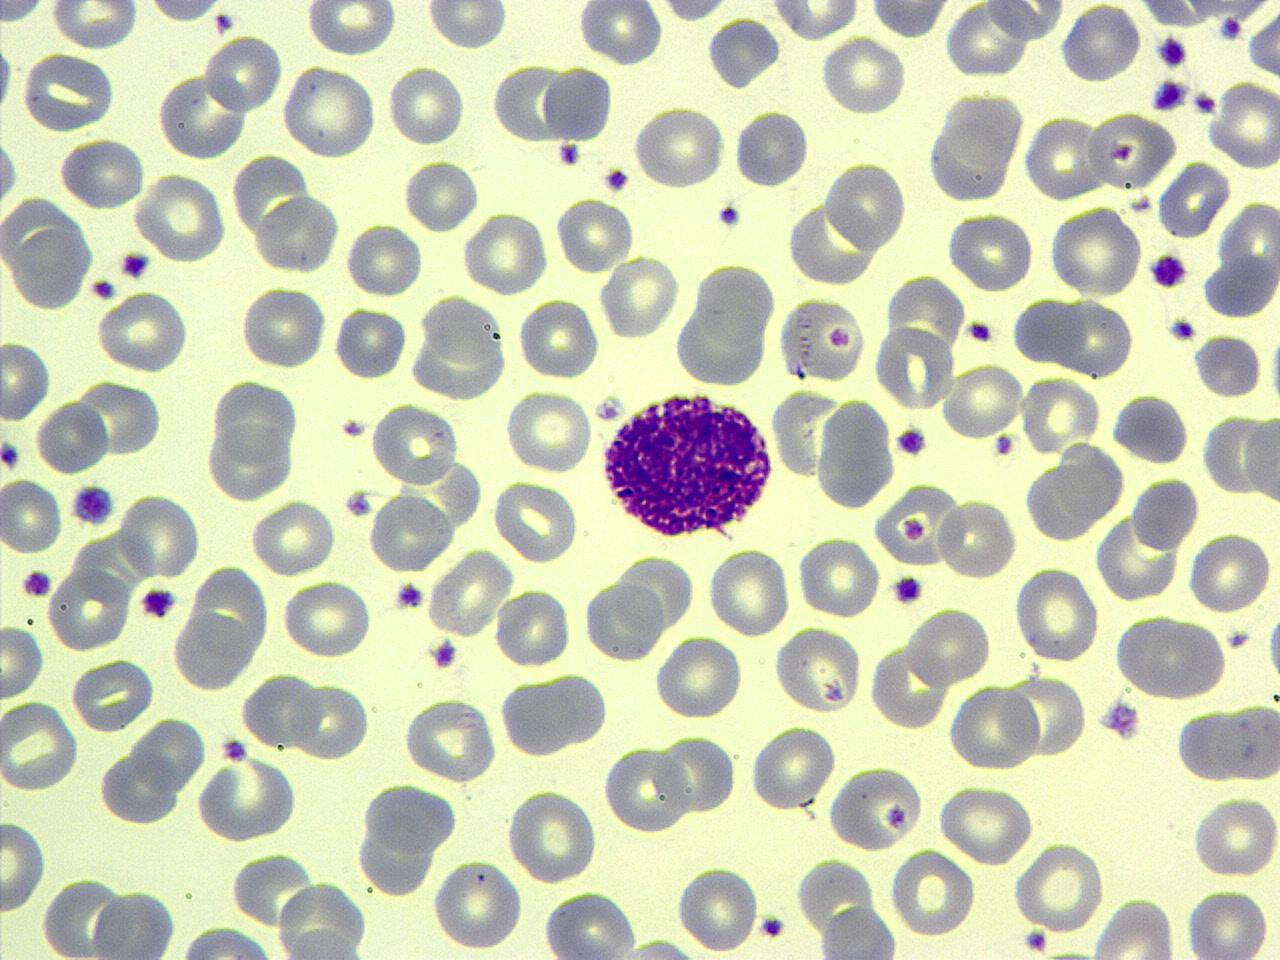Platelets: (69, 480, 117, 530), (1146, 249, 1190, 291), (1150, 76, 1190, 115), (137, 584, 178, 622), (0, 39, 17, 116), (1154, 33, 1190, 69), (889, 572, 925, 606), (893, 425, 929, 459), (1265, 608, 1280, 690), (20, 566, 54, 600), (394, 578, 427, 612), (430, 636, 460, 672), (119, 249, 151, 280), (602, 165, 632, 195), (219, 736, 250, 764), (87, 275, 119, 303), (758, 912, 786, 942), (211, 7, 239, 36), (1190, 89, 1218, 118), (1169, 317, 1199, 342), (965, 319, 993, 345), (338, 416, 369, 439), (0, 440, 22, 471), (992, 432, 1018, 457), (1217, 16, 1243, 41), (557, 140, 581, 167), (1127, 193, 1155, 215), (1223, 628, 1251, 650)
RBC: (924, 89, 1027, 204), (1113, 612, 1229, 702), (495, 672, 608, 760), (280, 62, 378, 161), (504, 786, 600, 884), (195, 755, 300, 843), (1047, 202, 1143, 298), (814, 398, 896, 511), (432, 854, 525, 952), (825, 762, 926, 851), (1013, 562, 1101, 664), (1014, 839, 1108, 934), (946, 681, 1040, 773), (402, 693, 498, 784), (1173, 702, 1279, 784), (134, 170, 228, 262), (936, 783, 1038, 866), (156, 69, 248, 161), (772, 624, 864, 716), (776, 294, 868, 386), (602, 742, 692, 834), (786, 198, 876, 289), (654, 632, 746, 722), (822, 159, 910, 253), (706, 545, 792, 639), (633, 103, 728, 190), (94, 289, 190, 374), (426, 547, 515, 638), (502, 386, 595, 474), (890, 846, 977, 940), (748, 724, 838, 814), (1191, 791, 1279, 882), (116, 490, 204, 582), (674, 862, 761, 954), (370, 400, 462, 487), (240, 282, 328, 372), (691, 259, 777, 351), (20, 51, 117, 132), (211, 378, 299, 466), (1186, 528, 1274, 616), (872, 482, 964, 566), (491, 476, 578, 564), (463, 210, 549, 297), (904, 604, 993, 690), (946, 209, 1036, 293), (868, 640, 950, 732), (359, 781, 462, 854), (275, 879, 371, 958), (599, 251, 681, 342), (282, 576, 373, 658), (1, 697, 79, 793), (1085, 109, 1175, 192), (205, 419, 295, 501), (818, 34, 910, 115), (45, 568, 130, 654), (516, 295, 601, 382), (1005, 671, 1089, 758), (253, 192, 341, 275), (77, 376, 163, 460), (873, 322, 955, 409), (366, 491, 454, 574), (248, 497, 338, 578), (796, 534, 880, 620), (12, 224, 94, 312), (1023, 112, 1105, 200), (584, 578, 666, 664), (1020, 372, 1103, 458), (1053, 295, 1137, 379), (940, 359, 1025, 442), (540, 888, 638, 960), (172, 608, 254, 693), (490, 59, 570, 145), (201, 32, 283, 115), (240, 668, 321, 752), (385, 63, 466, 147), (493, 584, 572, 670), (938, 496, 1018, 582), (943, 1, 1030, 80), (58, 134, 147, 211), (1182, 884, 1272, 960), (1058, 3, 1142, 84), (290, 678, 370, 762), (732, 105, 810, 191), (69, 656, 157, 732), (659, 730, 737, 816), (555, 194, 635, 274), (344, 219, 424, 298), (401, 155, 482, 235), (88, 888, 177, 960), (1108, 390, 1192, 466), (1209, 80, 1279, 171), (332, 302, 408, 383), (1218, 197, 1280, 294), (1157, 158, 1231, 241), (706, 13, 782, 91), (35, 396, 110, 476), (577, 0, 664, 68), (542, 64, 613, 146), (1089, 896, 1177, 960), (1130, 472, 1198, 554), (1200, 250, 1278, 322), (304, 0, 398, 57), (1009, 296, 1085, 366), (0, 475, 65, 556), (1192, 328, 1262, 400), (816, 902, 900, 959), (0, 818, 48, 916), (49, 0, 139, 52), (0, 338, 54, 422), (425, 0, 508, 51), (766, 0, 864, 41), (176, 924, 277, 960), (1243, 407, 1279, 508), (0, 622, 46, 701), (982, 0, 1066, 42), (866, 0, 954, 39), (278, 924, 372, 960), (1248, 4, 1280, 81), (142, 0, 226, 26), (651, 0, 735, 24), (0, 0, 51, 27)
WBC: (592, 383, 780, 546), (928, 89, 1030, 203), (502, 670, 612, 756), (1109, 388, 1191, 467), (542, 63, 614, 146)
